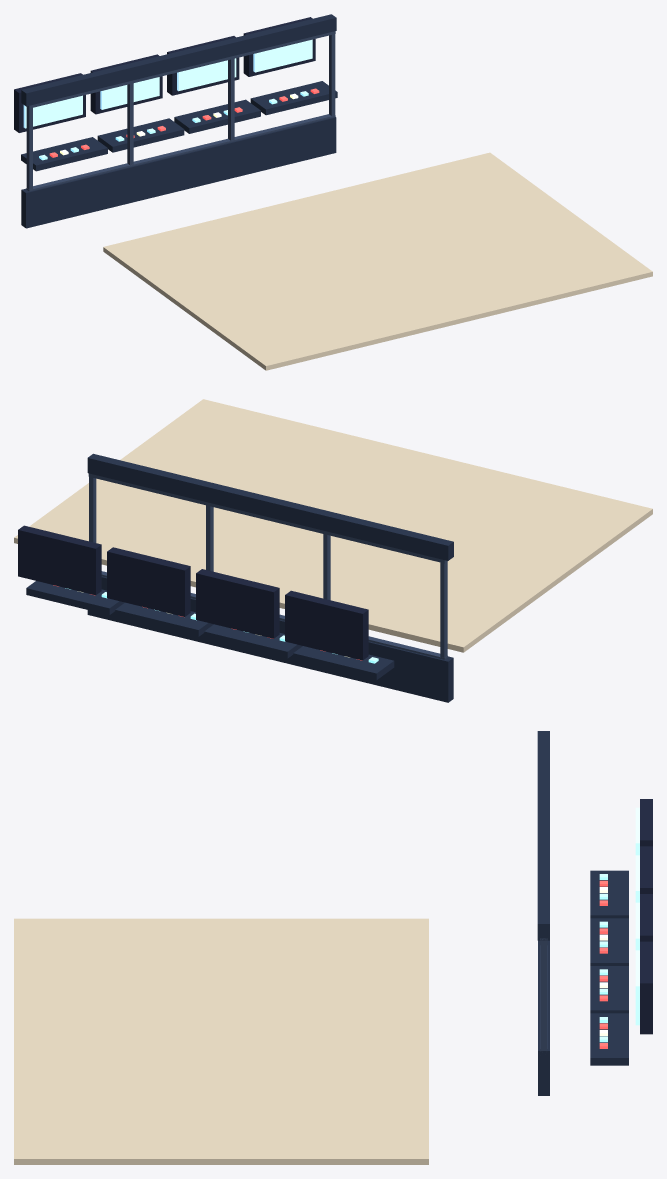
File: news.glb
3 views of the same model, one above another, from view 1: azimuth 30°, elevation 25°; view 2: azimuth 150°, elevation 25°; view 3: azimuth 270°, elevation 25° (orthographic). The views are drawn at different scales.
Visible parts, largest first — view 1: news; view 2: news; view 3: news.
Part boxes in pixels (x1,y1,x2,y2): news: (14,14,652,370); news: (14,399,652,702); news: (14,731,652,1164).
Size of the model in its own units: 10.45 by 3.2 by 10.78.
